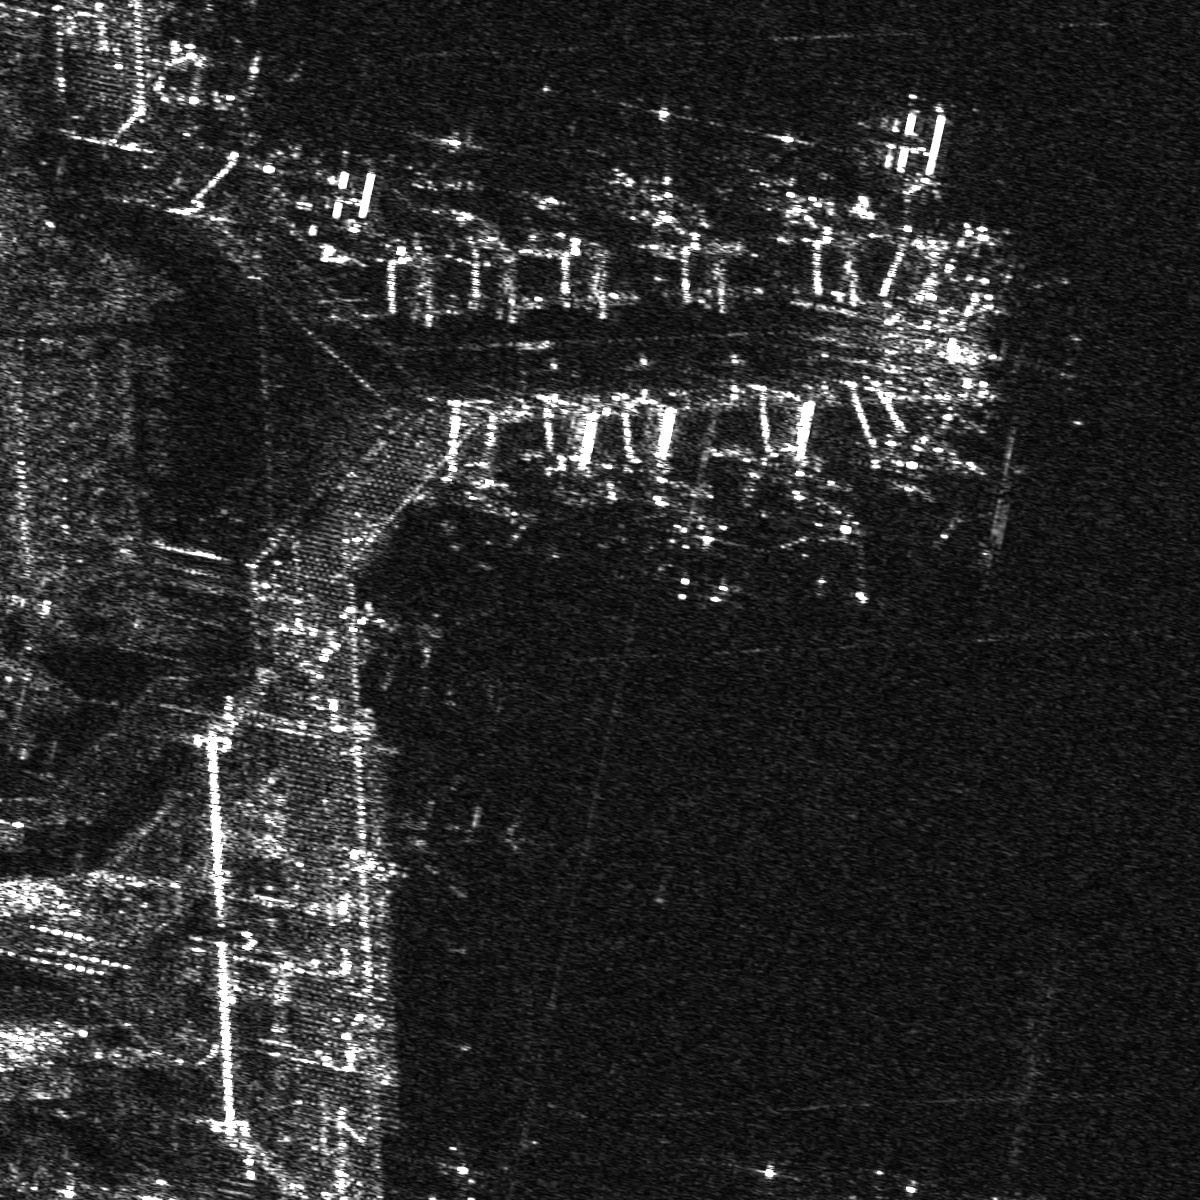A220: (385, 116, 496, 205)
A320/321: (387, 774, 525, 905), (584, 91, 696, 205), (646, 516, 752, 613), (727, 116, 831, 205), (920, 492, 1009, 575)
Boeing737: (775, 507, 890, 602)
